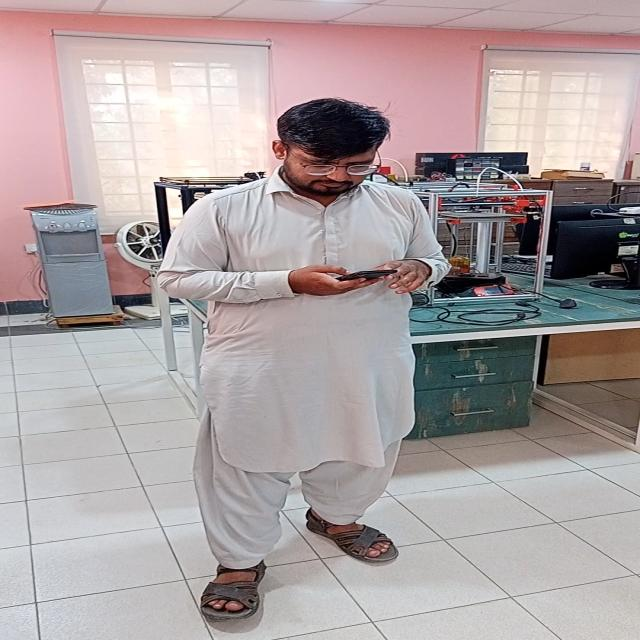dress: (155, 164, 449, 578)
glasses: (288, 153, 382, 184)
